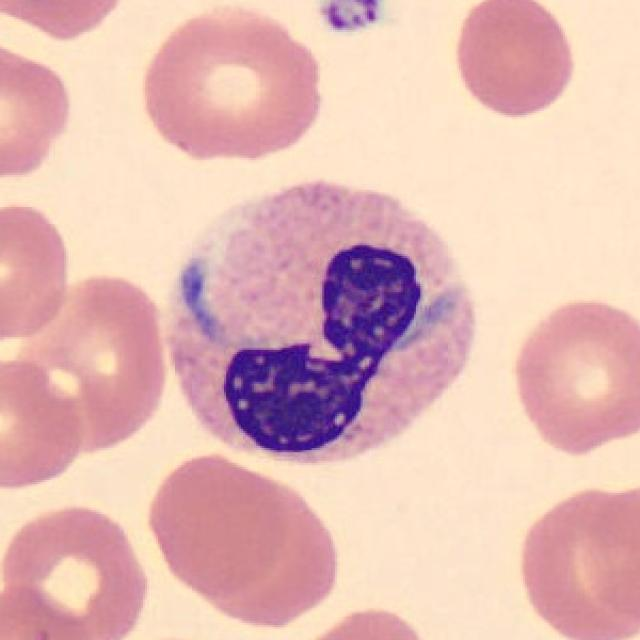White Blood Cell: (170, 182, 472, 461)
